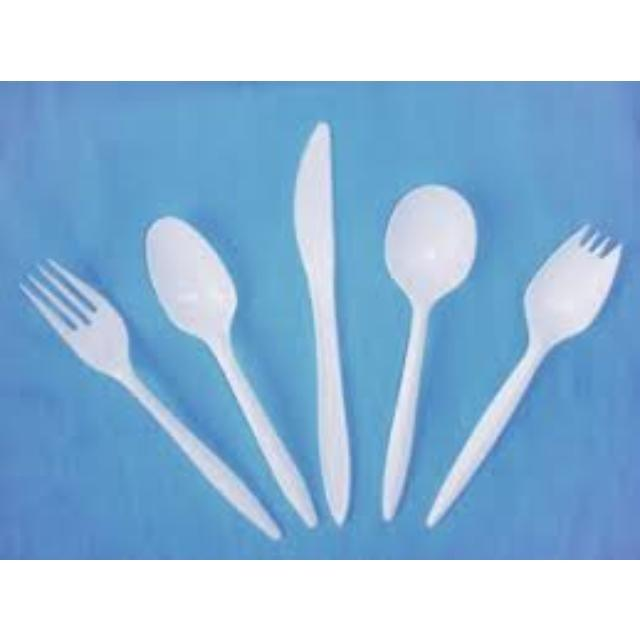Plastico descartable: (20, 259, 284, 541), (427, 225, 623, 531), (143, 216, 317, 530), (380, 185, 478, 529), (295, 126, 353, 523)
